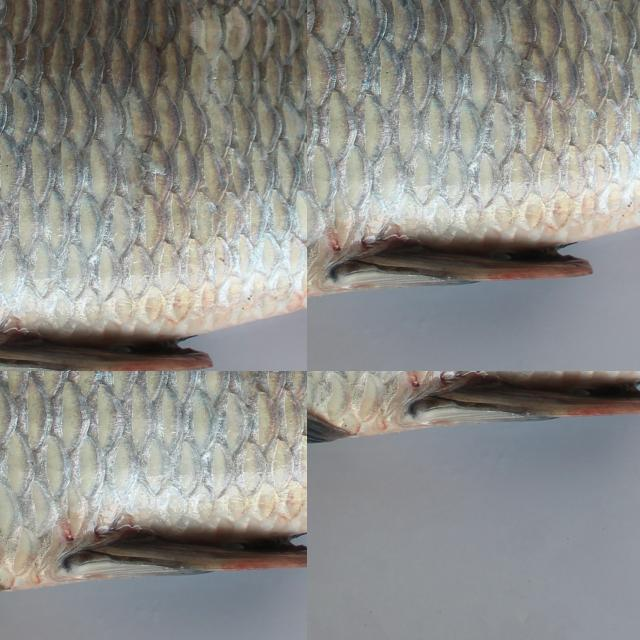fish: (307, 371, 640, 491)
